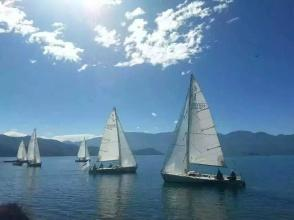fanchuan: (155, 79, 253, 185), (87, 108, 138, 175), (26, 127, 48, 170), (76, 132, 92, 166), (9, 138, 27, 165)
